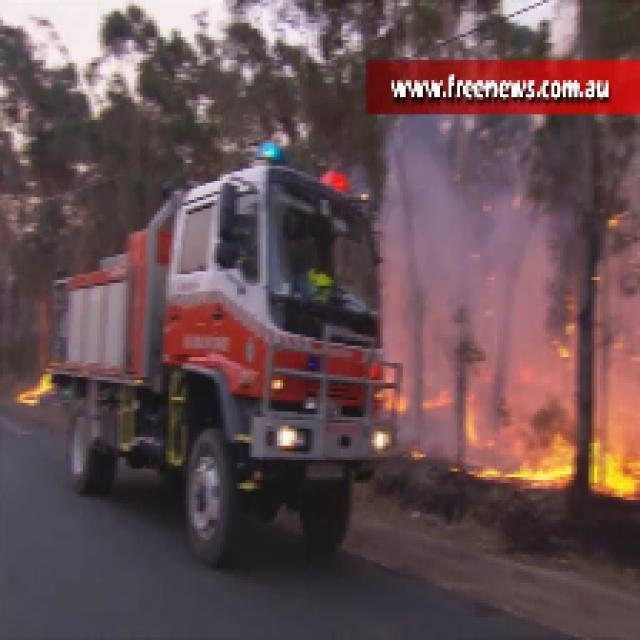Fire: (477, 420, 640, 494)
Smoke: (383, 120, 640, 354)
